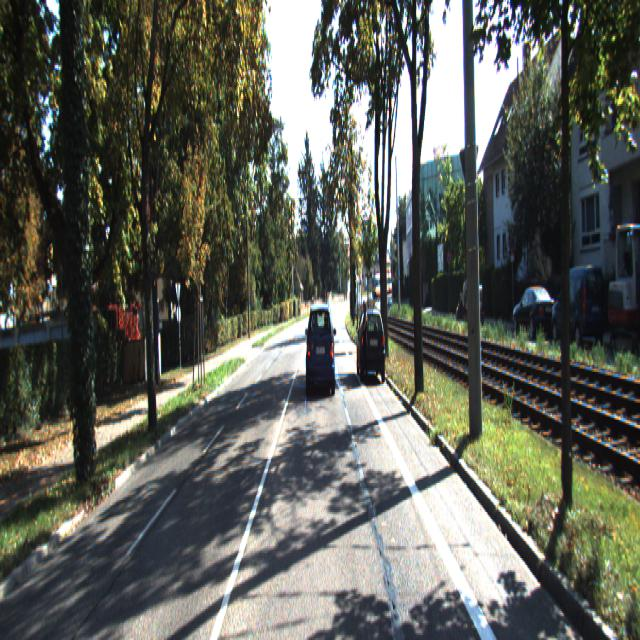Car: (552, 258, 608, 346), (608, 216, 640, 351), (306, 298, 336, 398), (514, 282, 560, 339), (356, 306, 386, 382), (466, 258, 482, 317)
